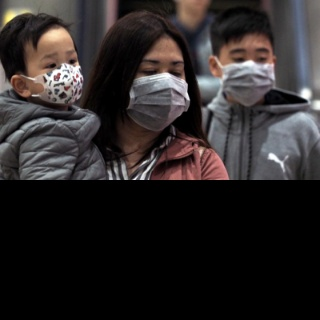with_mask: (125, 53, 189, 131), (219, 43, 276, 106), (27, 45, 84, 105)
